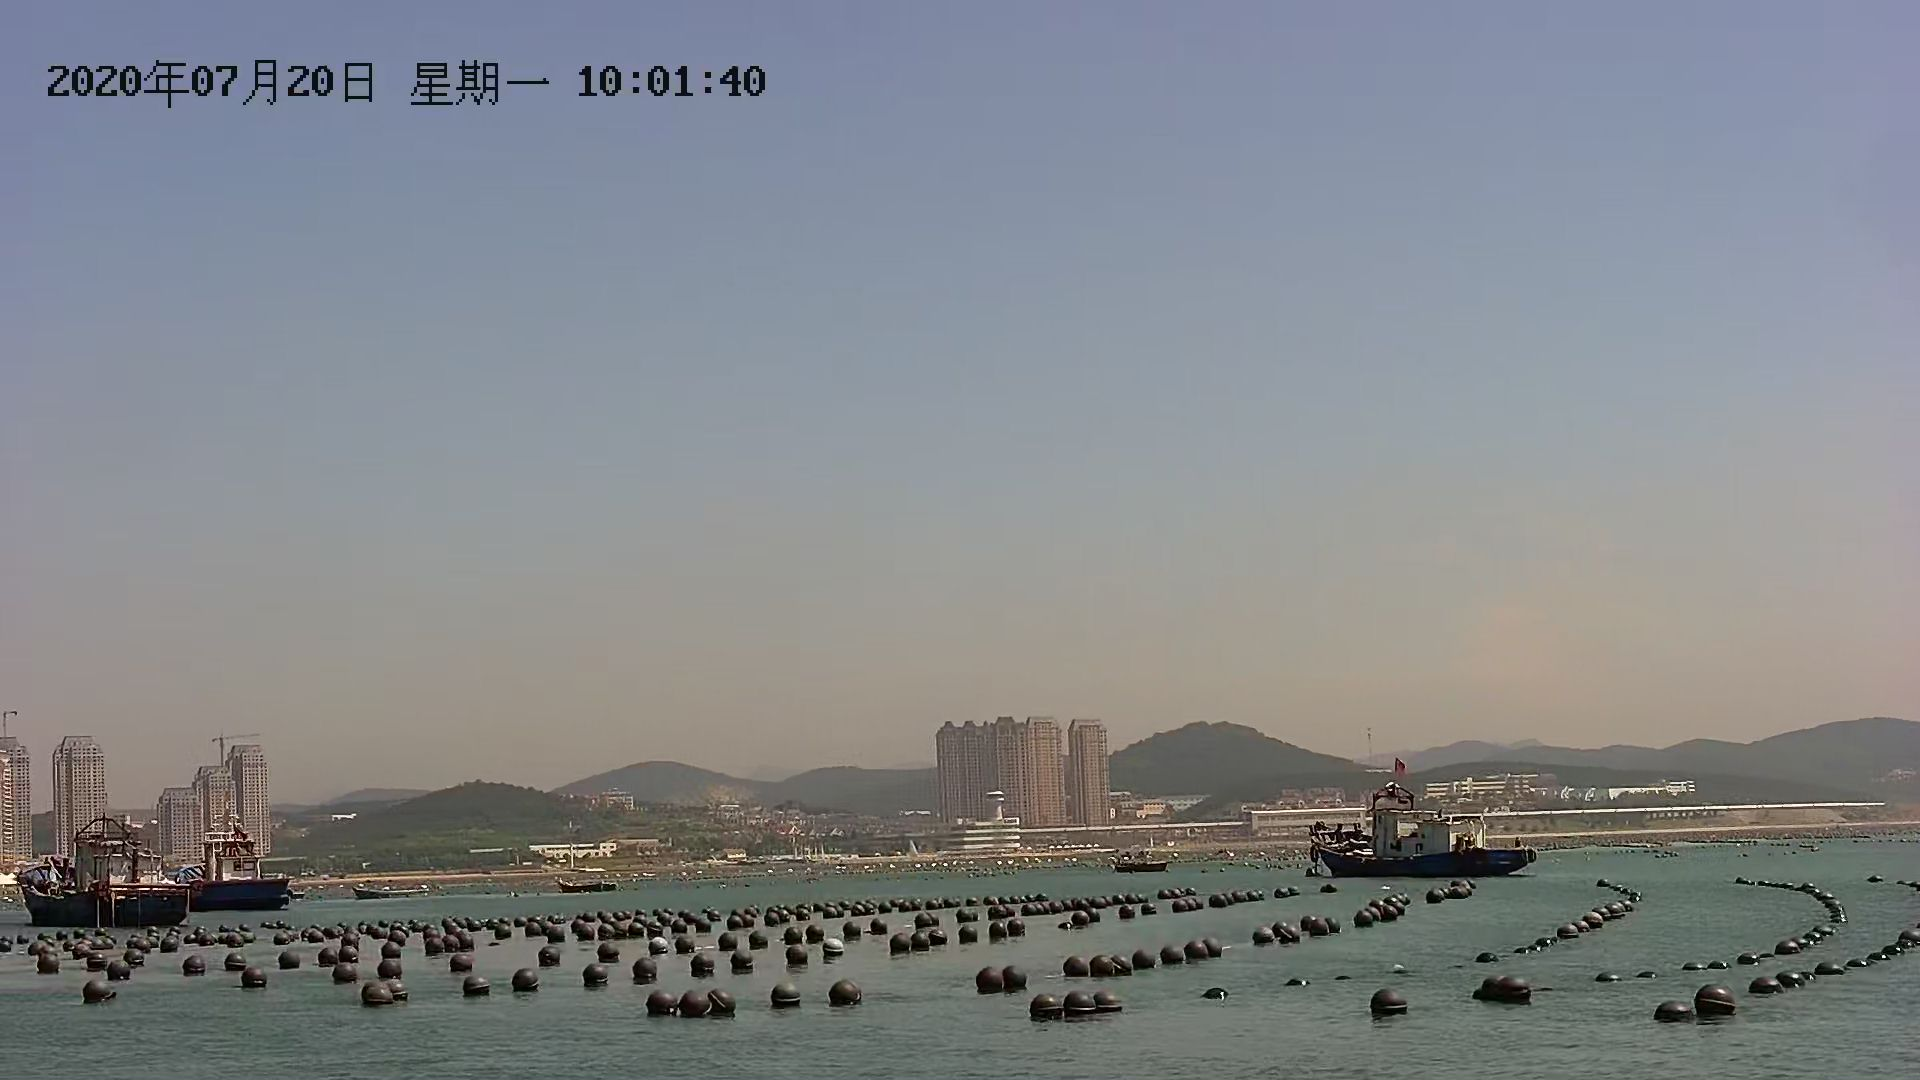ball: (1364, 981, 1415, 1022), (1480, 973, 1535, 1010), (1693, 984, 1739, 1022), (80, 975, 123, 1011), (233, 963, 276, 996), (709, 986, 742, 1022), (680, 985, 712, 1022), (829, 975, 864, 1007), (509, 961, 541, 997), (972, 964, 1004, 1000), (359, 982, 396, 1011), (1029, 993, 1067, 1021), (462, 971, 497, 1000), (771, 977, 800, 1013), (642, 992, 676, 1021), (1063, 989, 1092, 1018), (582, 960, 607, 993), (1096, 993, 1126, 1018), (181, 953, 207, 975)
boat: (351, 882, 430, 902), (556, 873, 620, 897), (1112, 852, 1176, 874)
ship: (1305, 787, 1545, 884), (22, 827, 200, 927), (196, 818, 318, 909)
